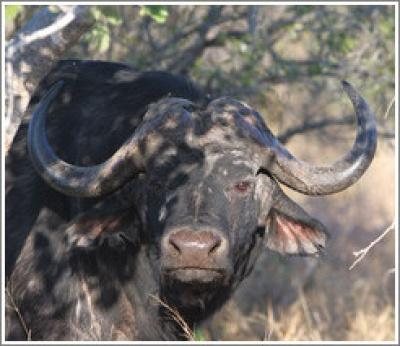buffalo: (6, 8, 376, 339)
